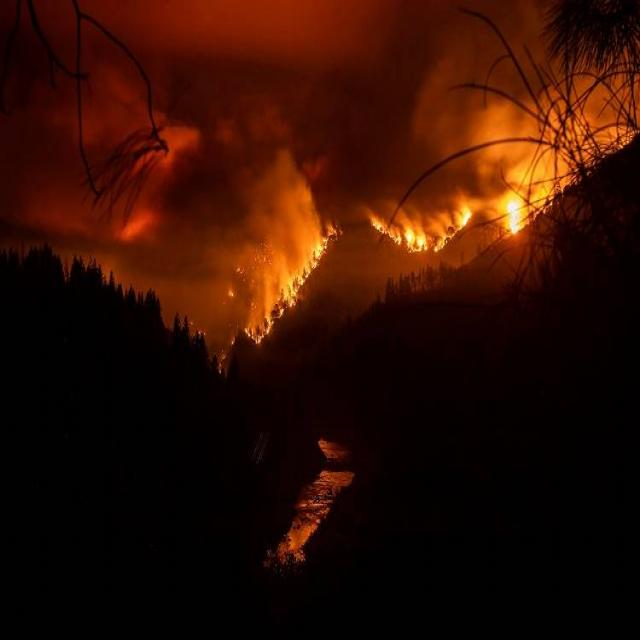Fire: (248, 239, 333, 344), (371, 195, 495, 253), (497, 192, 533, 237)
